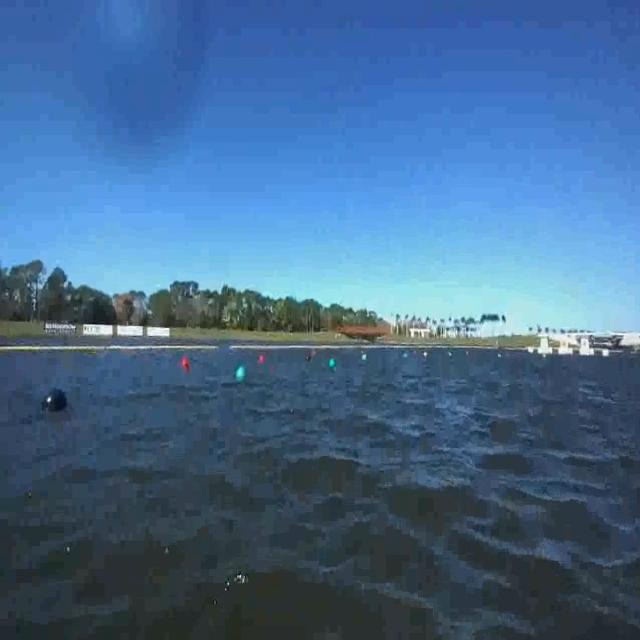black-buoy: (40, 388, 70, 413)
green-buoy: (237, 364, 247, 381), (328, 358, 336, 369)
red-column-buoy: (184, 357, 192, 372)
